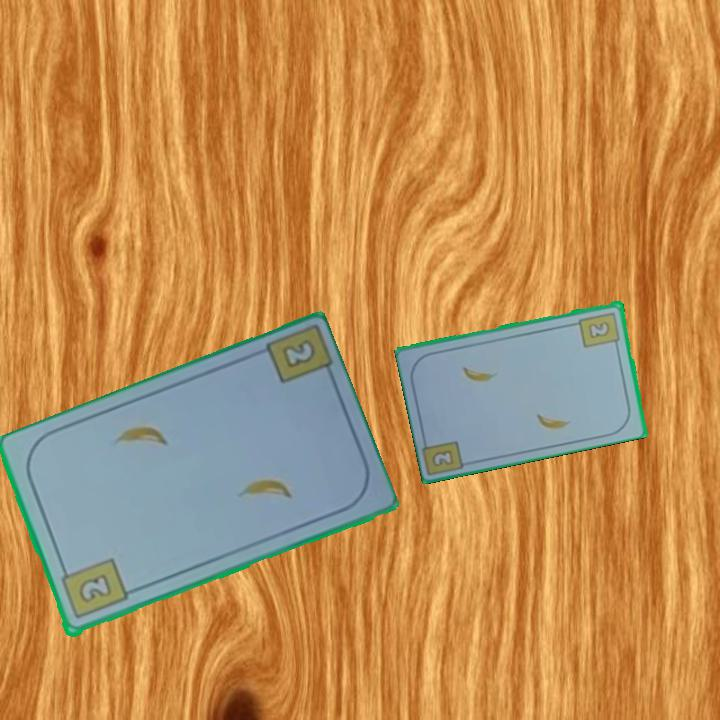2b: (57, 555, 130, 623), (576, 308, 623, 350), (277, 336, 319, 372), (428, 446, 457, 470)
